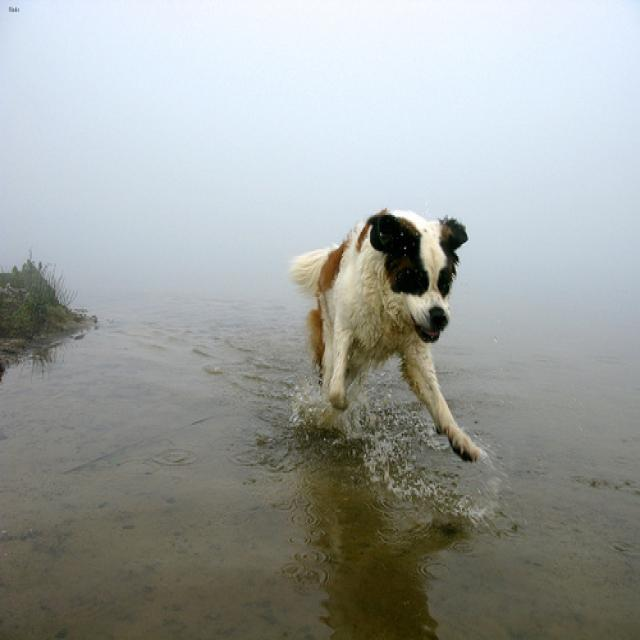dog-saint_bernard: (278, 203, 485, 473)
